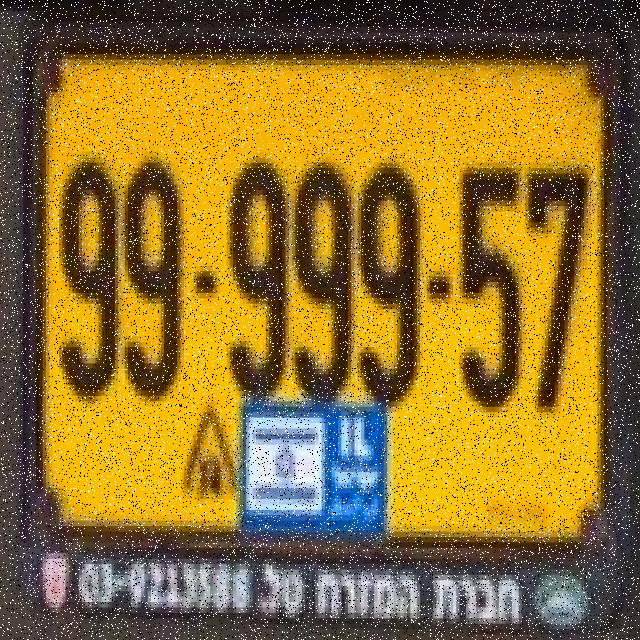licenseplate: (15, 18, 634, 630)
